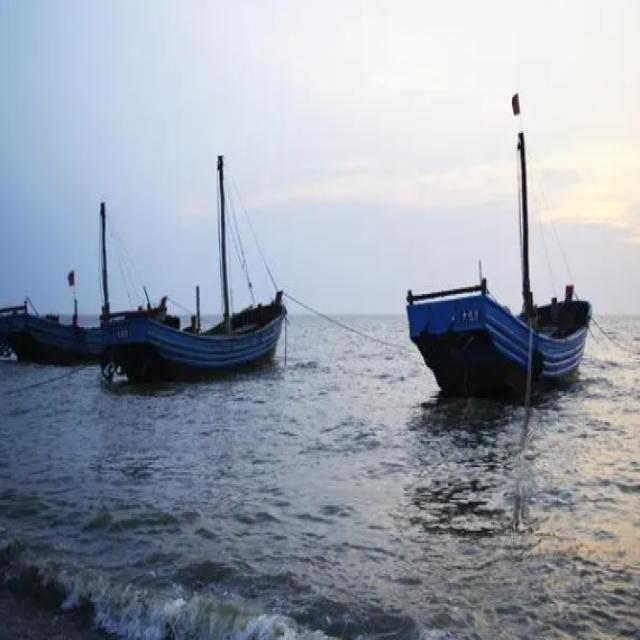fishing boat: (400, 91, 591, 394), (114, 157, 290, 370), (0, 191, 177, 368)
